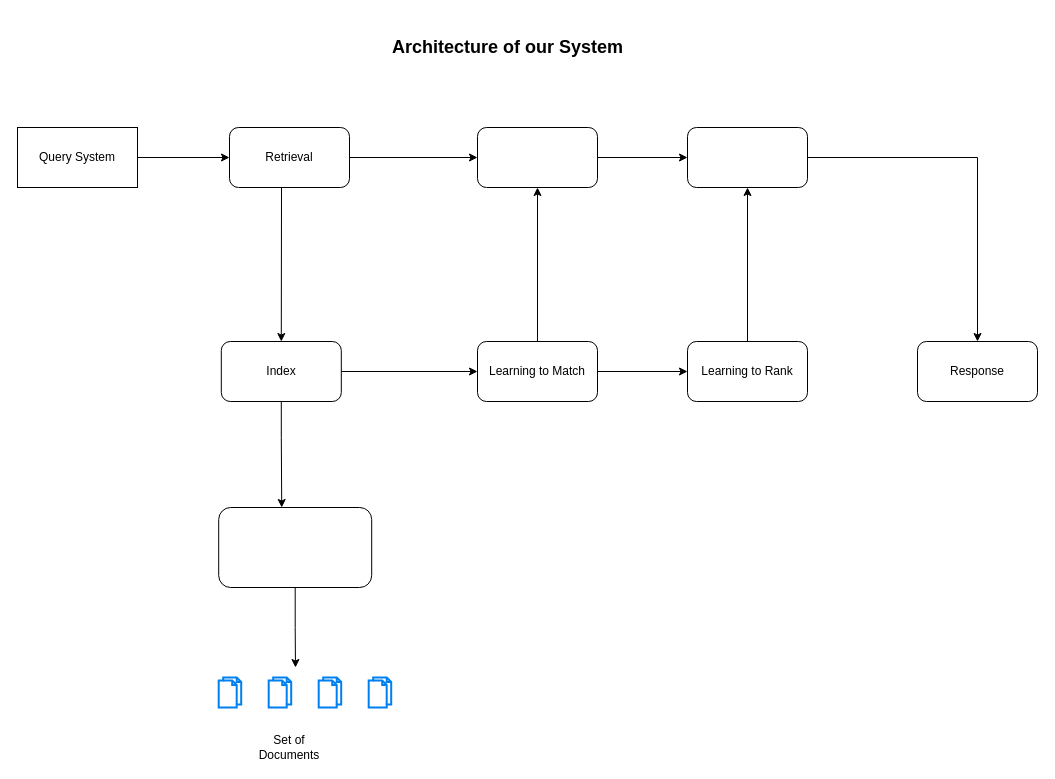
Some shapes in this 1055 by 779 pixel diagram are drawn without their labels. Each missing label, with the centre of its shape:
Embedded Topic Modelling: (295,547)
Matching: (537,157)
Ranking: (747,157)
